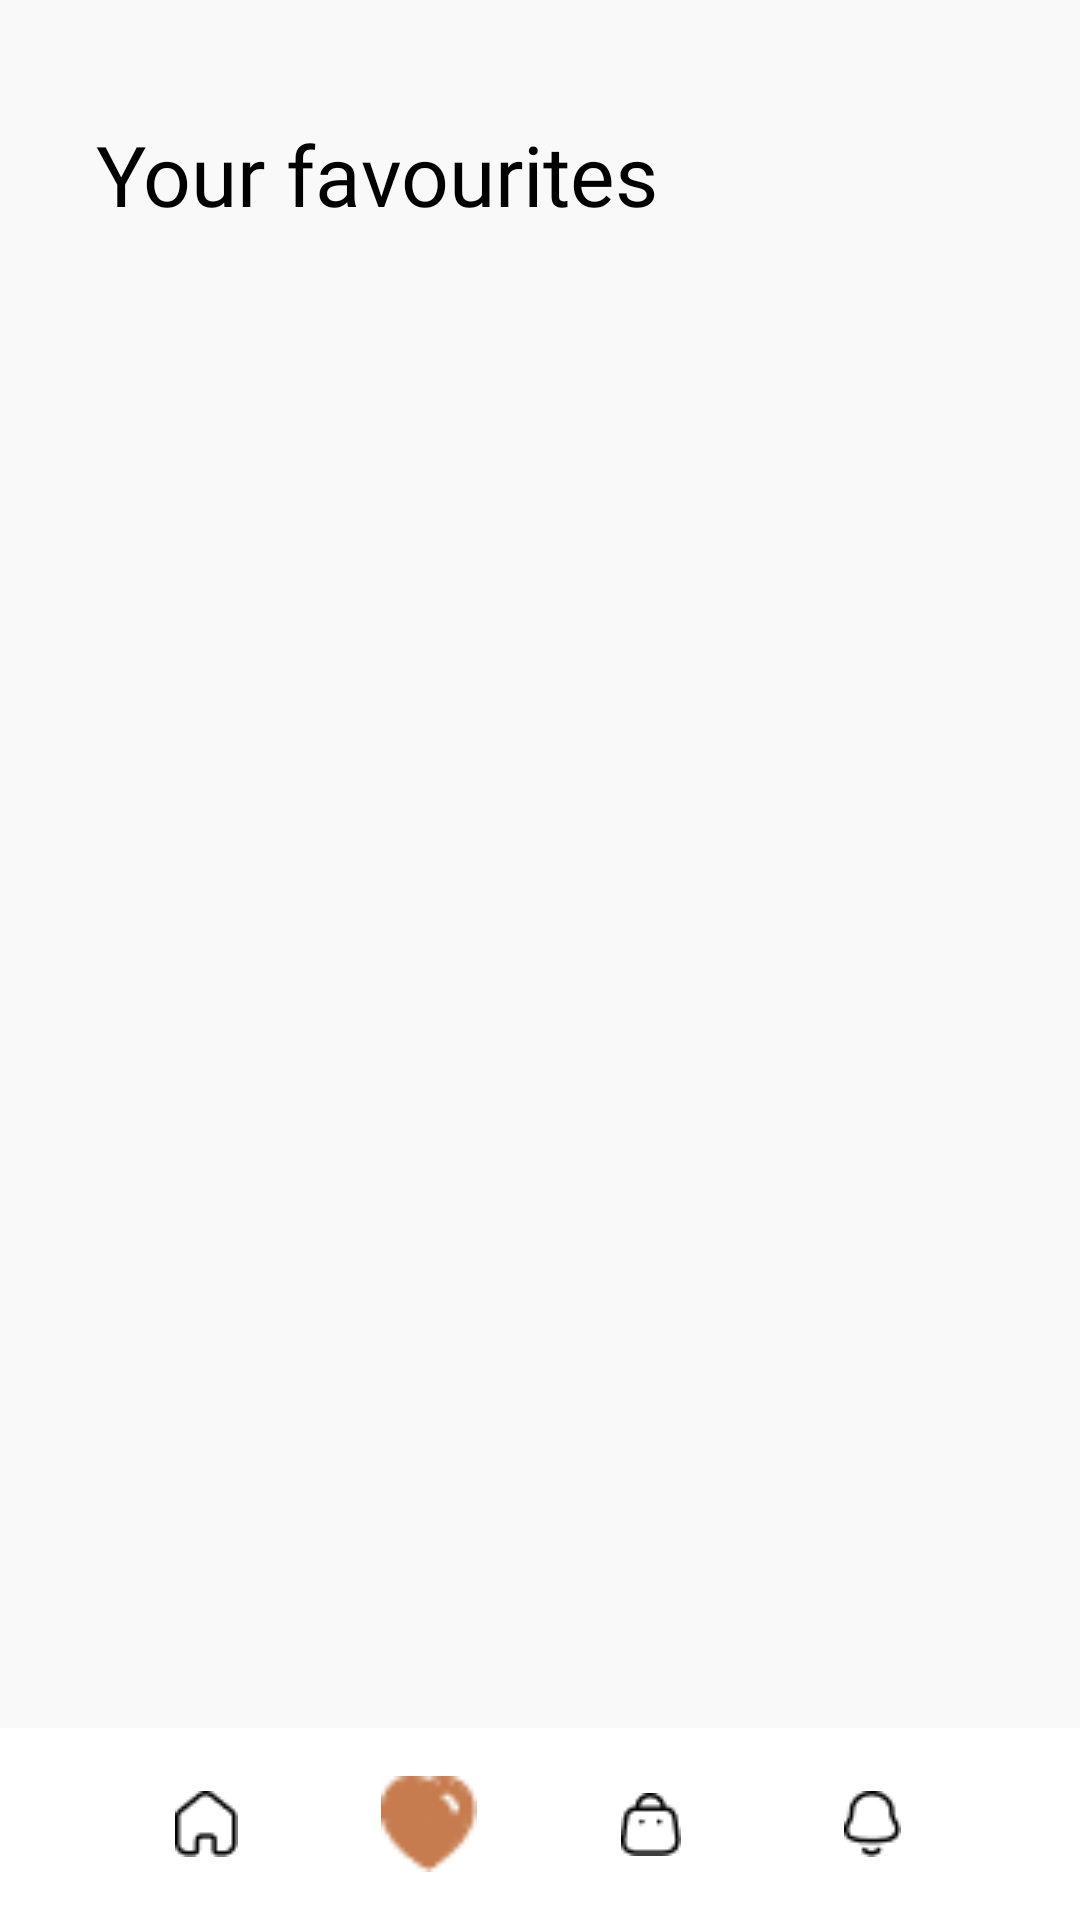

Named icons in this screenshot (1080w x 1920h) and their centers, (x,y):
bag: (651,1824)
heart: (429,1824)
home: (206,1824)
notification: (872,1824)
